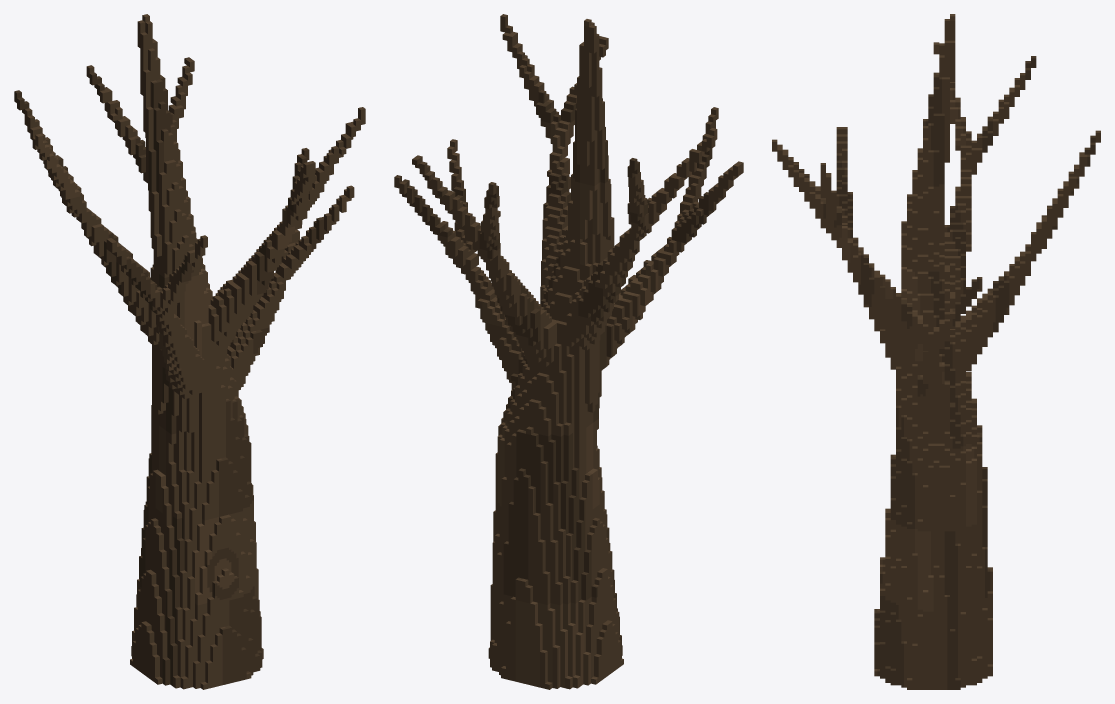
Rendered from oak_mature_winter.glb.
3 renders of one model, left to right at view 1: azimuth 30°, elevation 25°; view 2: azimuth 150°, elevation 25°; view 3: azimuth 270°, elevation 25°, orthographic. The views are drawn at different scales.
Visible parts, largest first — view 1: VoxelVisual; view 2: VoxelVisual; view 3: VoxelVisual.
Boxes of the visible parts, box(x1,y1,x2,y2) form: VoxelVisual: box(14, 14, 365, 689); VoxelVisual: box(394, 14, 743, 689); VoxelVisual: box(772, 14, 1100, 689).
Size of what is drawn, in the model's own units: 7.62 by 16.12 by 7.62.
